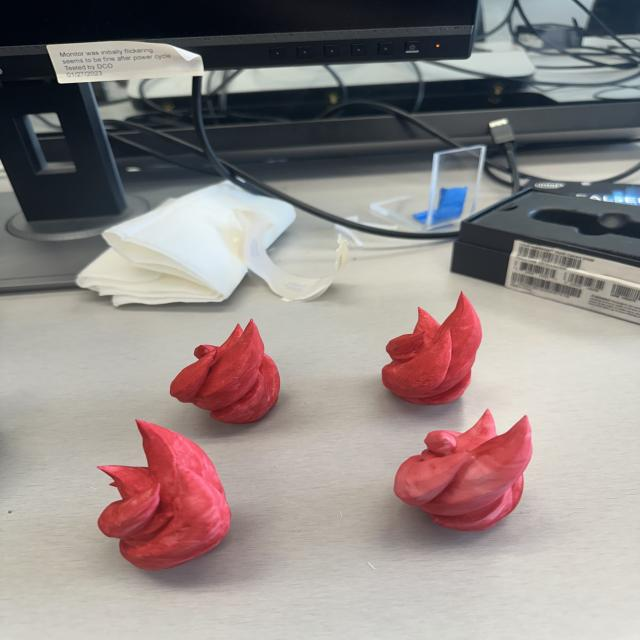fire: (95, 418, 233, 573), (392, 410, 536, 534), (165, 318, 284, 425), (381, 292, 480, 407)
